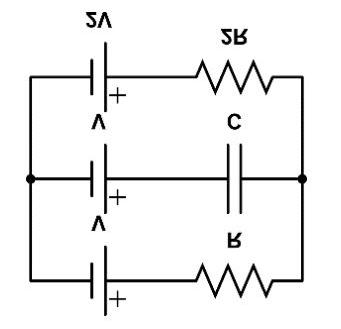Capacitor: (202, 133, 266, 225)
